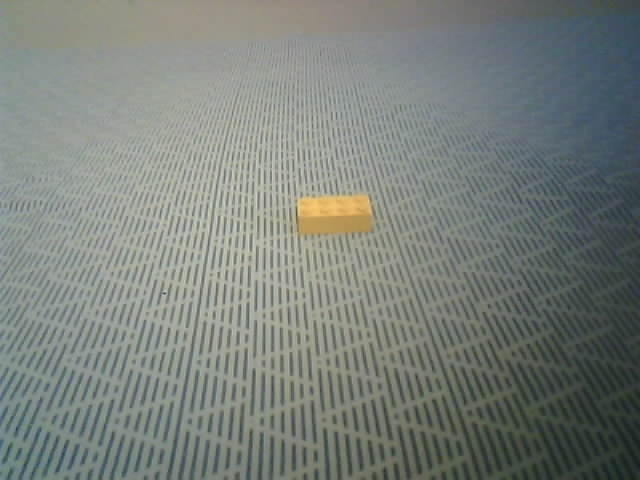lego: (295, 193, 375, 233)
